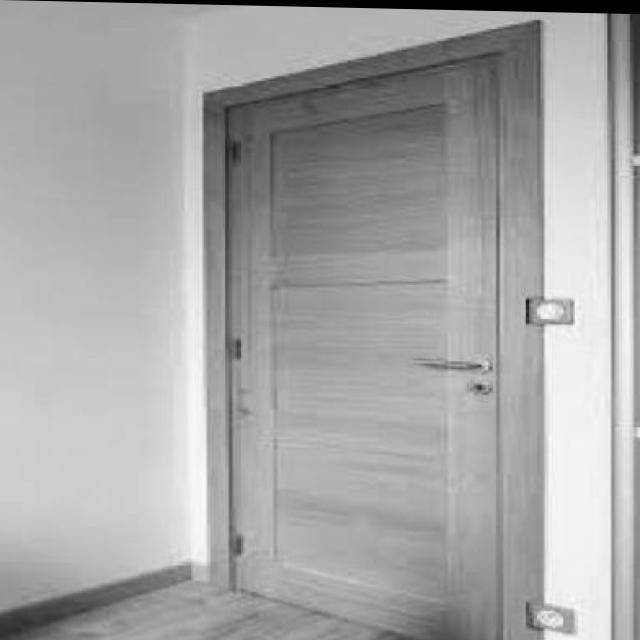door_handle: (398, 350, 494, 377)
